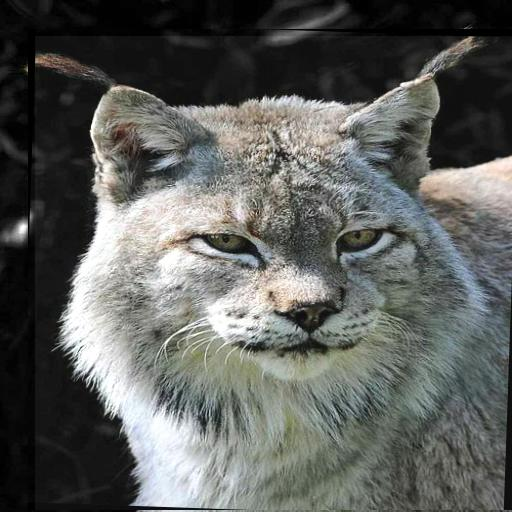lynx: (35, 37, 512, 510)
